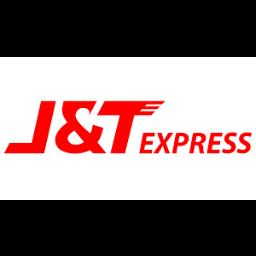e: (136, 129, 156, 155)
j: (2, 95, 56, 155)
p: (172, 130, 190, 154)
r: (188, 130, 208, 154)
s: (222, 130, 236, 156), (238, 130, 252, 154)
x: (154, 128, 174, 156)
